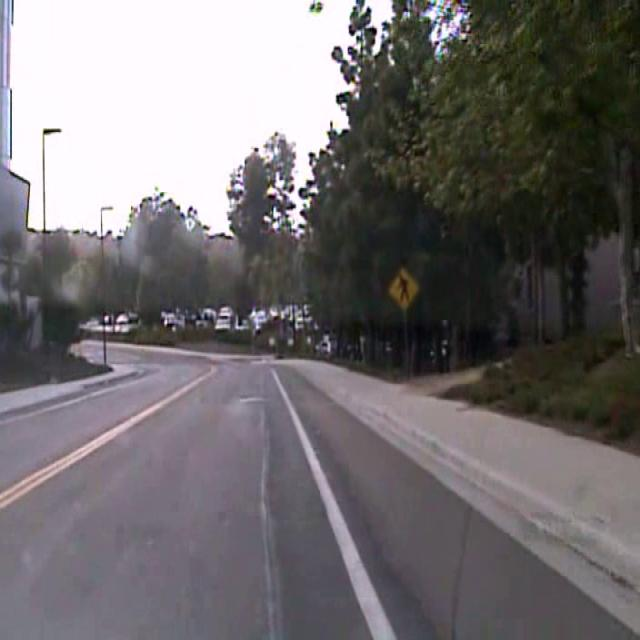pedestrianCrossing: (386, 265, 420, 312)
